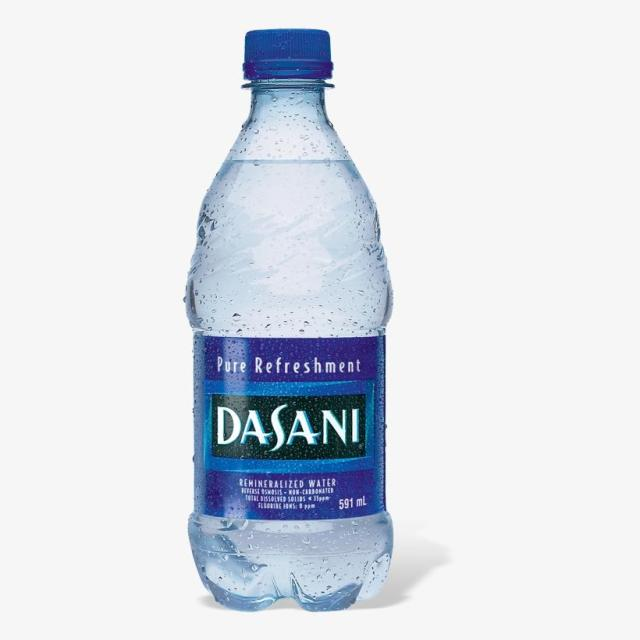plastic: (178, 18, 405, 614)
